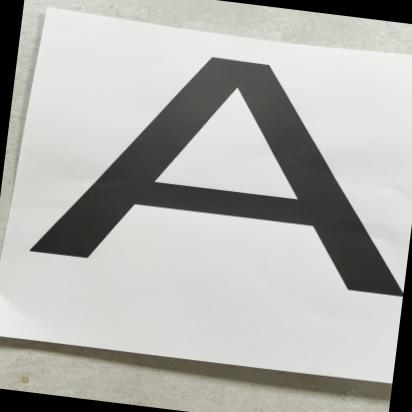seat: (11, 27, 412, 368)
